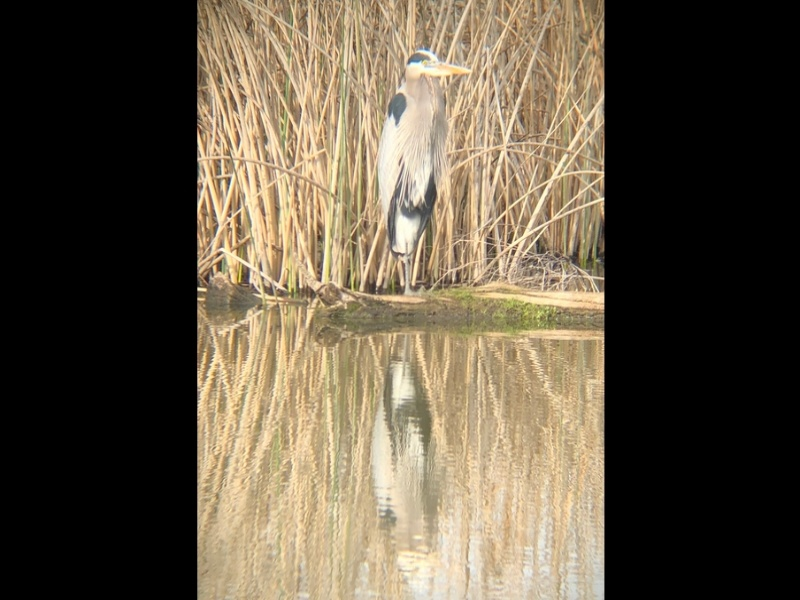heron: (375, 49, 476, 289)
